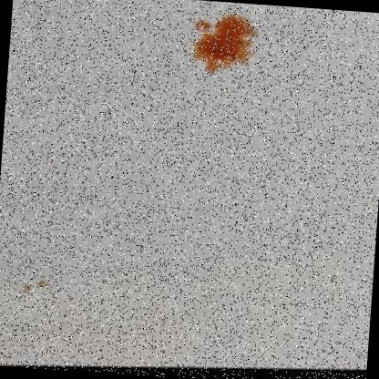kimchi: (183, 10, 260, 84)
